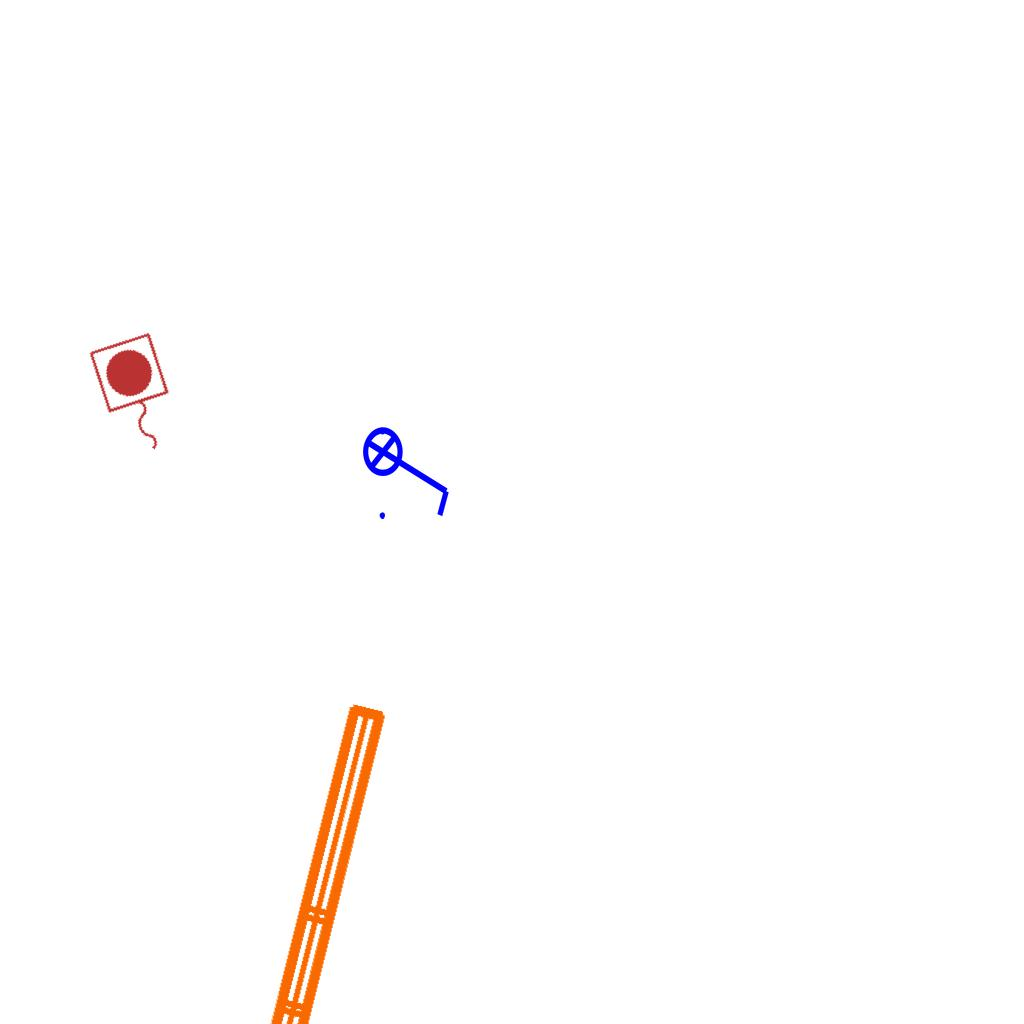Ambulanz_Pendelleuchte_LED: (154, 689, 450, 1024)
Ausschalter_beleuchtet: (361, 413, 457, 525)
Zugtaster: (82, 327, 190, 467)
